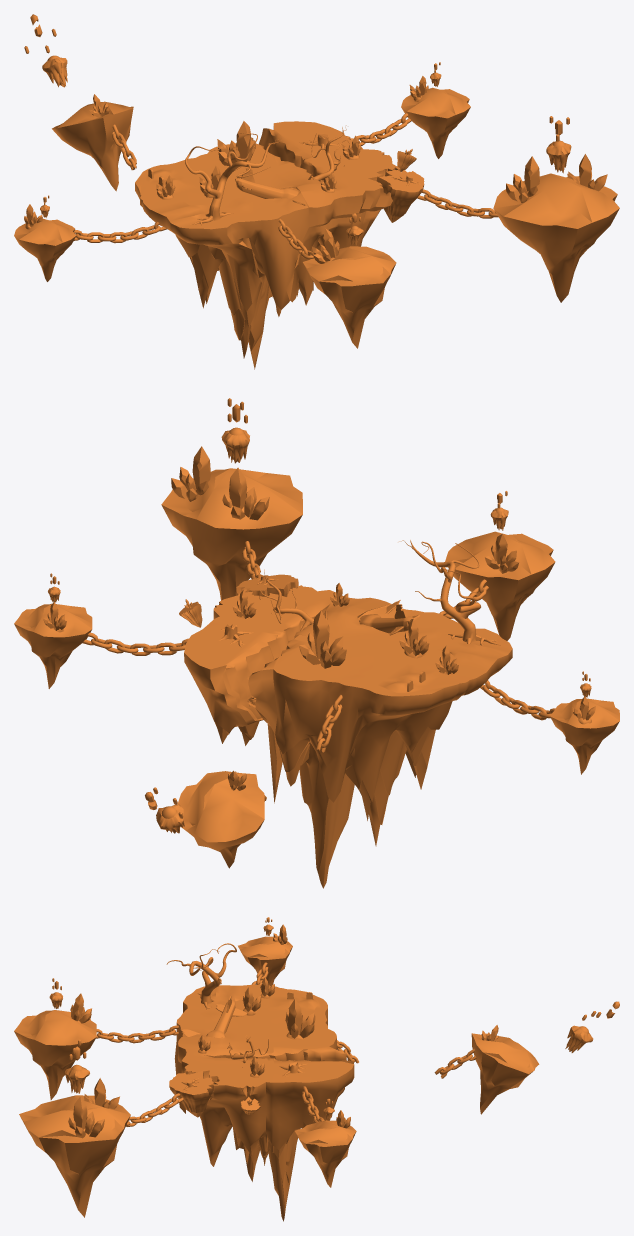
The model's file is map.glb.
3 views of the same model, one above another, from view 1: azimuth 30°, elevation 25°; view 2: azimuth 150°, elevation 25°; view 3: azimuth 270°, elevation 25° (orthographic). The views are drawn at different scales.
Parts seen in each view (by area): view 1: polySurface63_lambert1_0; view 2: polySurface63_lambert1_0; view 3: polySurface63_lambert1_0.
Boxes of the visible parts, box(x1,y1,x2,y2) form: polySurface63_lambert1_0: box(14, 14, 619, 369); polySurface63_lambert1_0: box(14, 398, 619, 888); polySurface63_lambert1_0: box(14, 917, 619, 1221).
Size of the model in its own units: 673 by 386 by 806.
